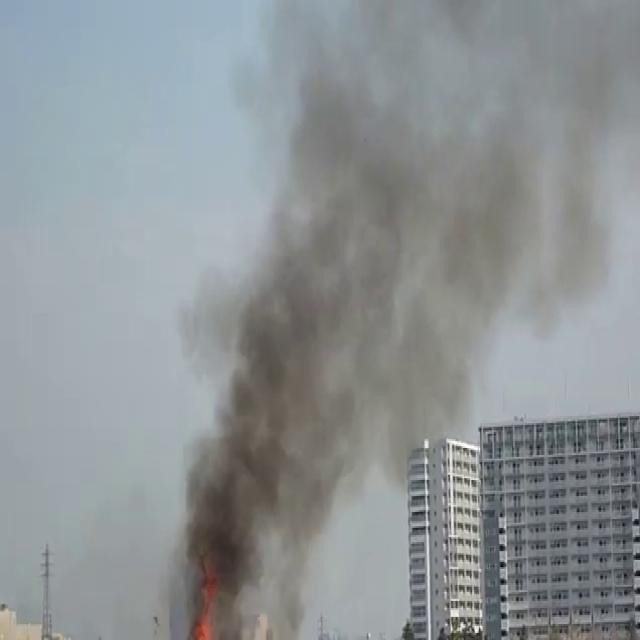Smoke: (165, 0, 637, 640)
